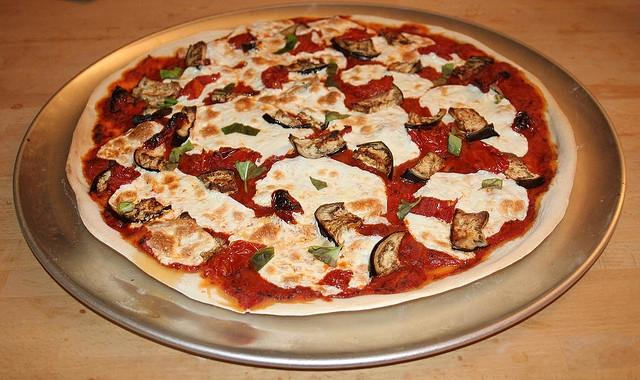mushroom: (314, 202, 363, 247), (448, 107, 500, 143), (450, 208, 491, 252), (369, 231, 406, 278), (288, 130, 347, 158), (352, 141, 394, 180), (352, 83, 404, 114), (503, 157, 546, 189), (399, 152, 444, 182), (122, 197, 172, 223), (132, 76, 180, 102), (331, 38, 382, 62), (196, 168, 238, 194), (452, 56, 493, 81), (404, 108, 446, 130), (134, 148, 165, 172), (185, 40, 207, 70), (90, 168, 111, 194), (296, 58, 328, 74), (271, 108, 297, 126), (380, 29, 408, 45), (211, 92, 254, 102)
